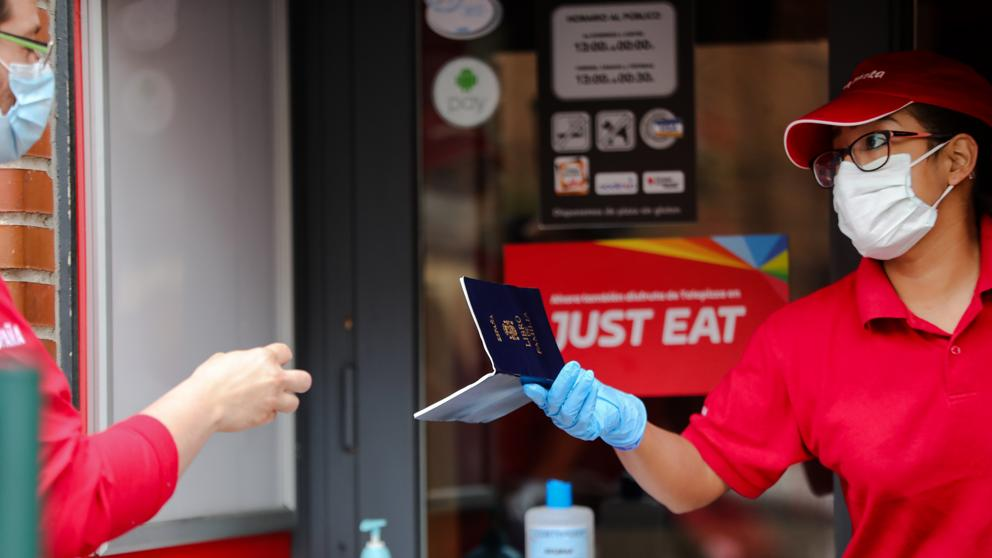with_mask: (812, 105, 972, 271), (1, 5, 72, 177)
